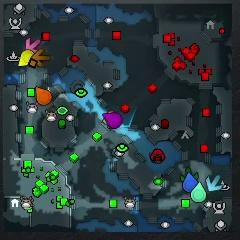p1: (183, 172, 197, 192)
p2: (190, 183, 207, 202)
p3: (103, 112, 123, 129)
p4: (18, 50, 34, 67)
p5: (35, 87, 53, 106)
x1: (25, 38, 40, 53)
x2: (101, 110, 114, 126)
x3: (206, 175, 221, 191)
x4: (180, 168, 199, 182)
x5: (32, 50, 51, 67)
